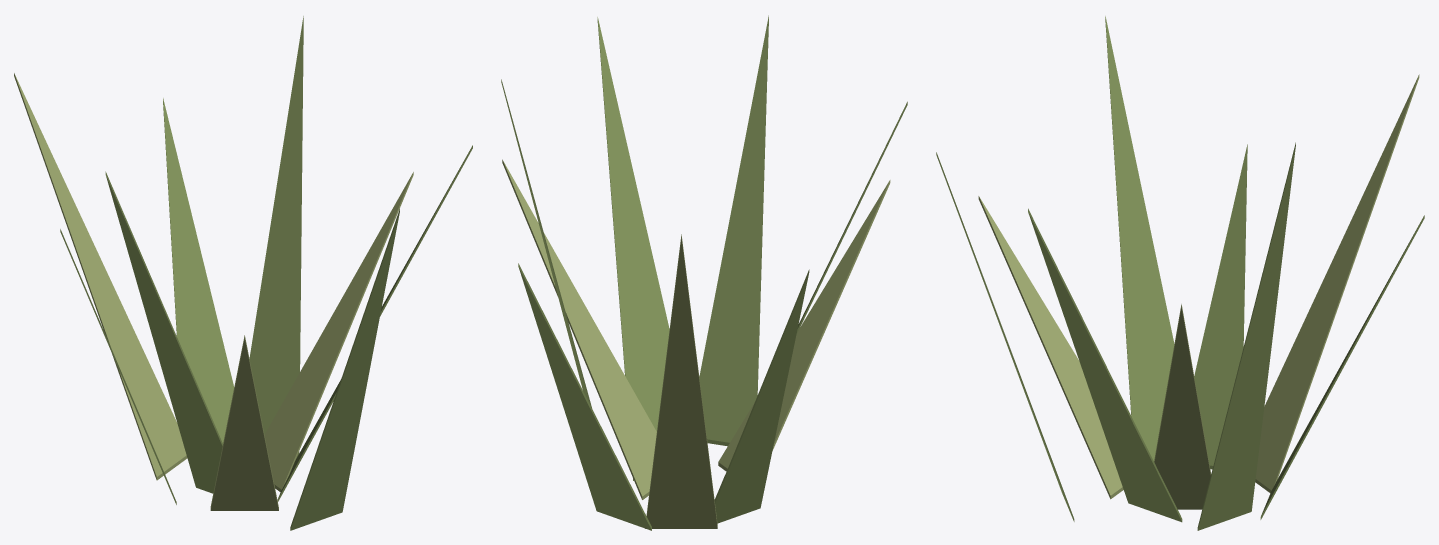
File: grass_tuft.fbx
The picture shows the model from 3 angles, left to right: view 1: azimuth 30°, elevation 25°; view 2: azimuth 150°, elevation 25°; view 3: azimuth 270°, elevation 25°; orthographic projection. The views are drawn at different scales.
Parts seen in each view (by area): view 1: grass_tuft; view 2: grass_tuft; view 3: grass_tuft.
Boxes of the visible parts, x1,y1,x2,y2 form: grass_tuft: (14, 16, 472, 530); grass_tuft: (501, 15, 907, 530); grass_tuft: (936, 16, 1424, 530).
Size of the model in its own units: 40.84 by 45.57 by 48.51.
